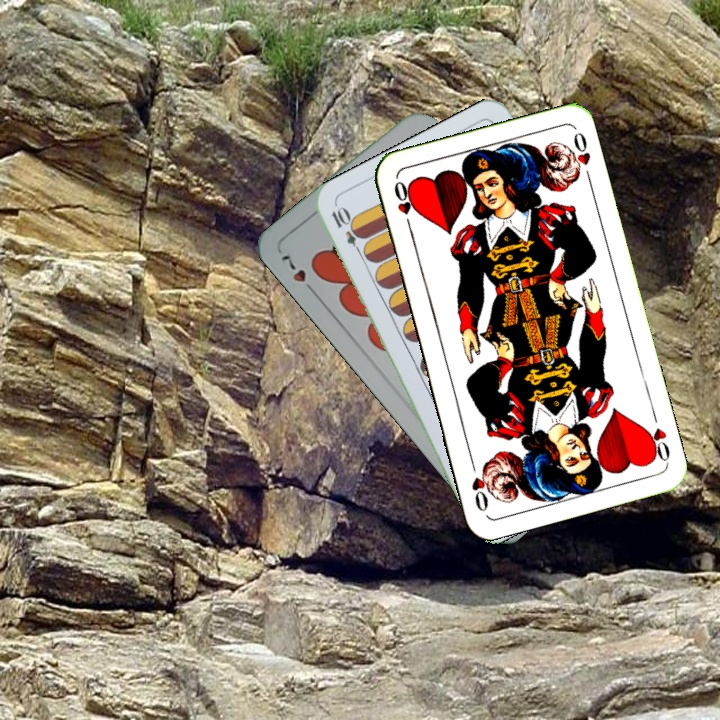E10: (327, 204, 367, 259)
H7: (276, 248, 319, 298)
HO: (640, 407, 673, 465), (390, 177, 416, 234)
